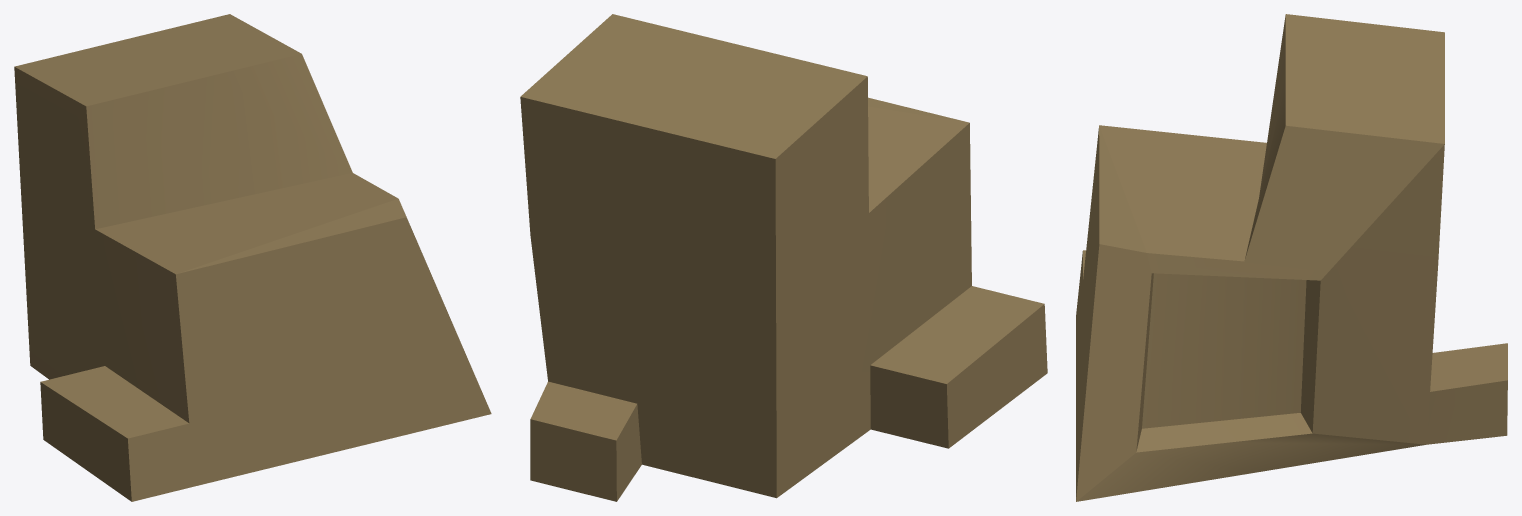
Rendered from puzzle_block_01.fbx.
The picture shows the model from 3 angles, left to right: view 1: azimuth 30°, elevation 25°; view 2: azimuth 150°, elevation 25°; view 3: azimuth 270°, elevation 25°; orthographic projection. The views are drawn at different scales.
Parts seen in each view (by area): view 1: puzzle_block_01; view 2: puzzle_block_01; view 3: puzzle_block_01.
Boxes of the visible parts, box(x1,y1,x2,y2) form: puzzle_block_01: box(14, 14, 491, 501); puzzle_block_01: box(520, 14, 1047, 501); puzzle_block_01: box(1076, 14, 1507, 501).
Size of the model in its own units: 101 by 82.27 by 97.72.
